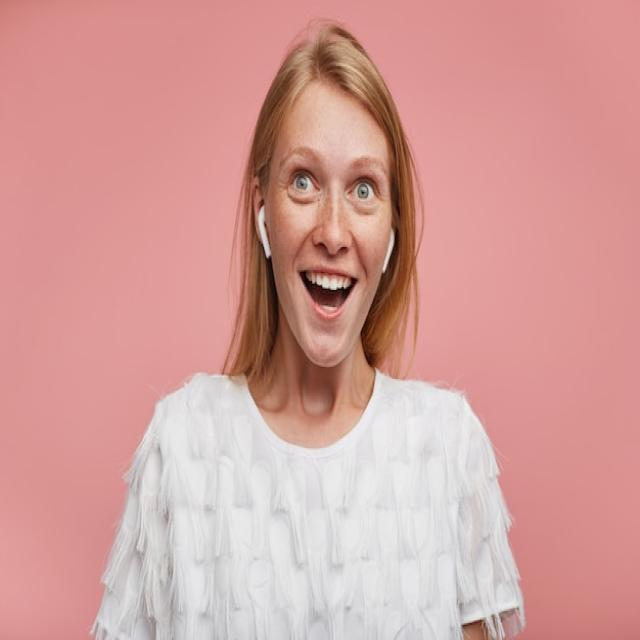airpods: (256, 204, 272, 259), (382, 225, 396, 275)
